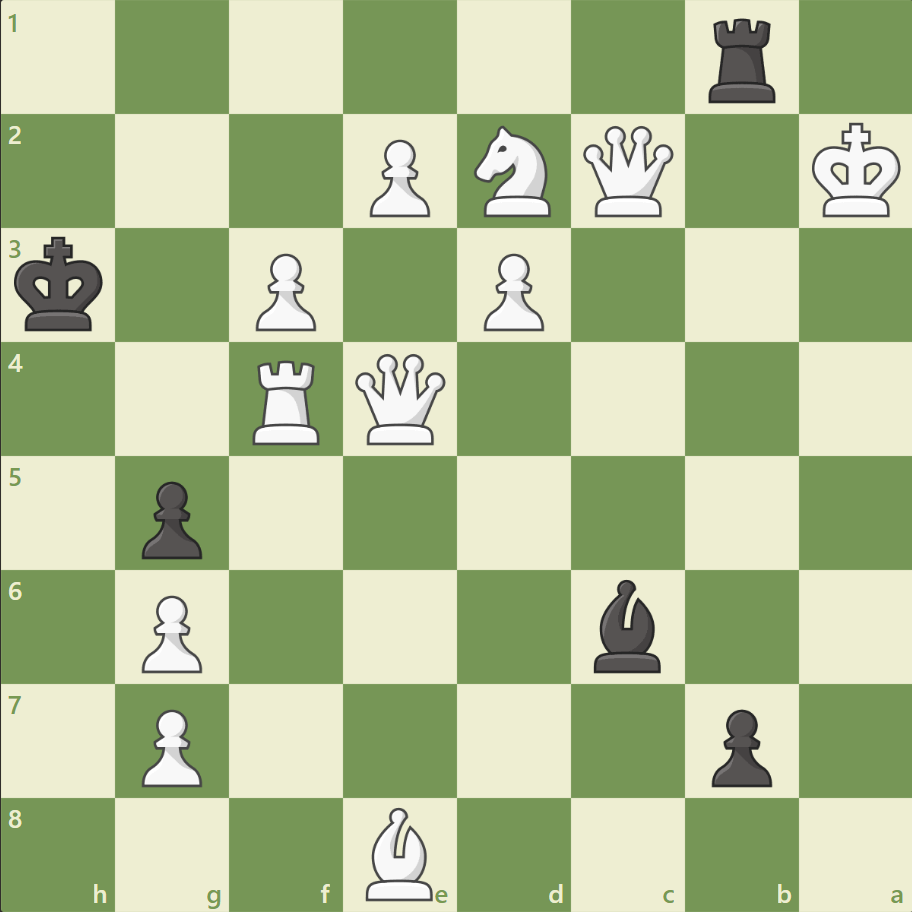B: (358, 801, 442, 904)
K: (806, 117, 906, 225)
N: (465, 121, 562, 223)
P: (133, 700, 208, 791), (133, 586, 208, 677), (474, 246, 549, 337), (247, 246, 322, 337), (361, 132, 435, 223)
Q: (351, 349, 450, 449), (578, 122, 677, 222)
R: (246, 352, 329, 449)
b: (585, 574, 669, 676)
k: (11, 231, 111, 339)
p: (701, 700, 776, 791), (133, 473, 208, 564)
r: (700, 12, 783, 109)
